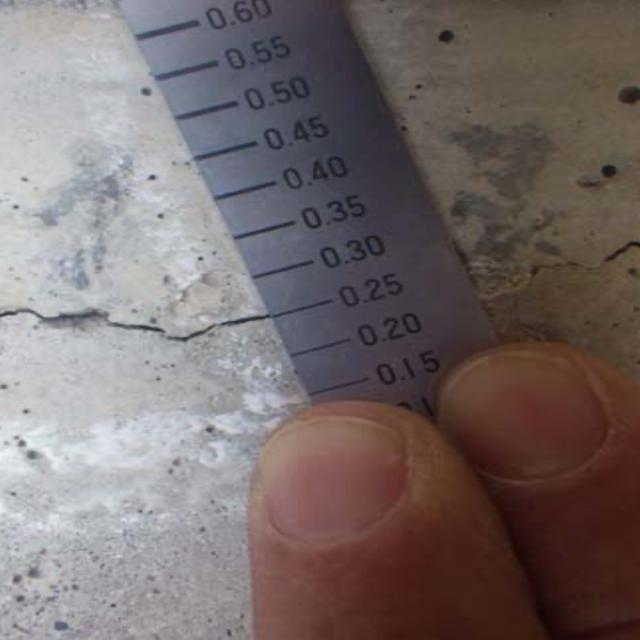crack: (2, 253, 307, 374), (477, 229, 636, 297)
